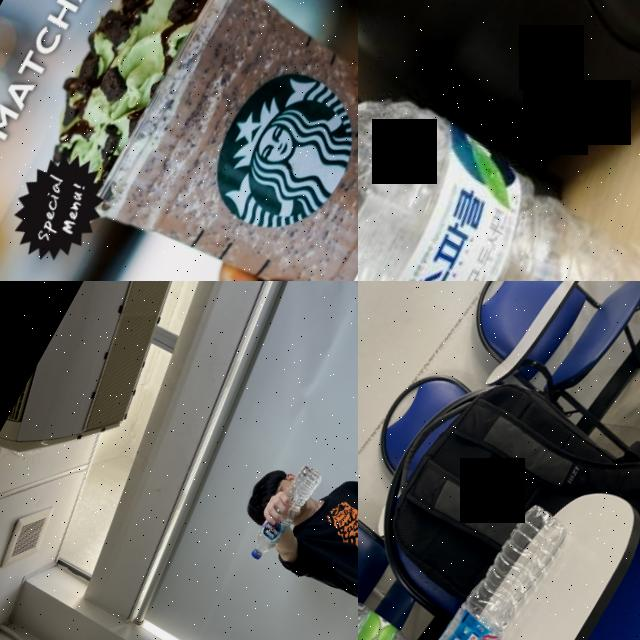bottle: (358, 9, 640, 281), (403, 494, 575, 640), (244, 457, 328, 571), (358, 586, 467, 640)
cup: (73, 0, 358, 281)
